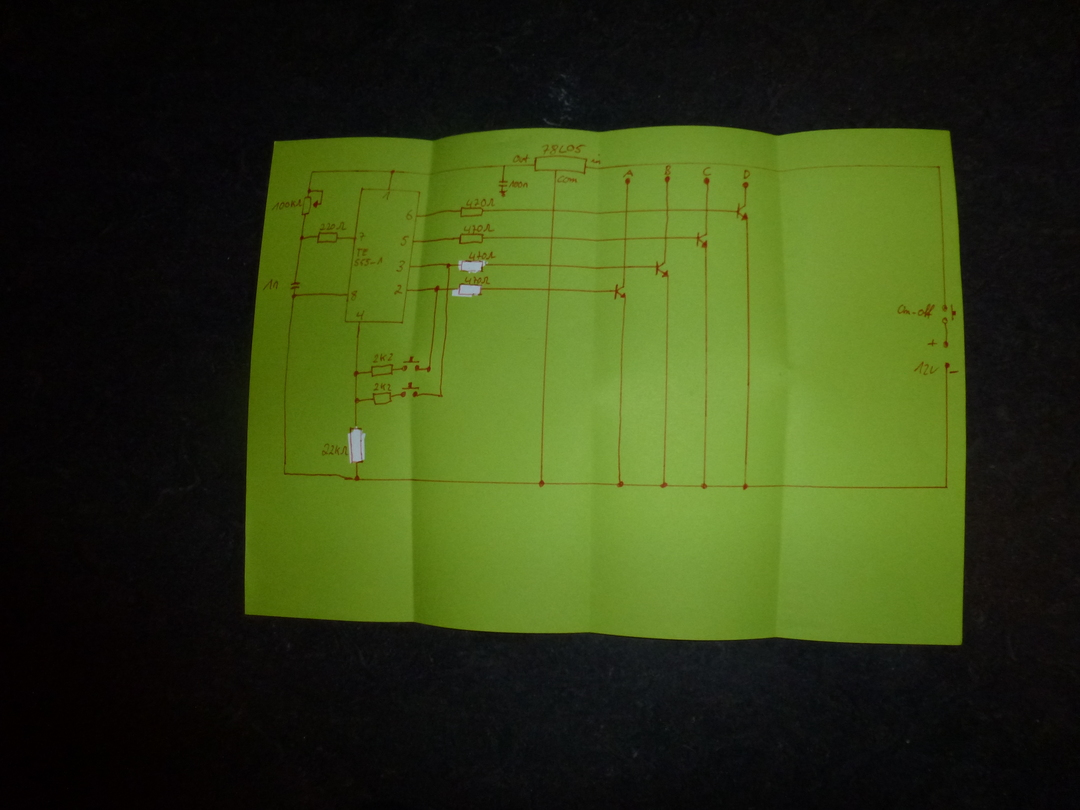capacitor.unpolarized: (289, 280, 301, 290), (497, 179, 509, 188)
crossover: (662, 233, 671, 245), (621, 234, 630, 245), (622, 207, 632, 216), (620, 262, 629, 272), (663, 205, 672, 215), (702, 207, 712, 216), (545, 285, 554, 294), (549, 206, 558, 215), (444, 285, 452, 295), (547, 261, 555, 270), (548, 233, 556, 242)
gnd: (497, 189, 509, 198)
integrated_cricuit.ne555: (343, 185, 422, 326)
junction: (536, 478, 549, 490), (352, 473, 363, 484), (934, 162, 944, 172), (352, 369, 361, 379), (659, 481, 669, 490), (615, 480, 625, 489), (700, 482, 709, 491), (388, 168, 398, 176), (433, 284, 441, 294), (281, 469, 289, 479), (304, 187, 313, 195), (741, 482, 749, 491), (290, 292, 298, 300), (445, 261, 453, 269), (942, 483, 950, 491), (298, 234, 306, 241), (319, 187, 326, 195), (309, 169, 317, 176), (353, 397, 360, 405), (425, 365, 432, 373), (437, 392, 444, 400), (501, 162, 508, 169)
resistor: (349, 425, 366, 465), (457, 282, 485, 297), (459, 259, 486, 274), (369, 363, 395, 377), (369, 391, 394, 405), (457, 233, 485, 245), (315, 231, 340, 244), (458, 206, 485, 218)
resistor.adjustable: (301, 195, 325, 217)
switch: (399, 381, 422, 399), (940, 302, 958, 325), (401, 355, 422, 373)
terminal: (741, 180, 751, 190), (702, 177, 712, 187), (663, 176, 672, 186), (624, 177, 632, 188), (940, 341, 951, 349), (943, 360, 952, 369)
text: (352, 246, 385, 269), (895, 302, 936, 320), (540, 142, 586, 154), (321, 443, 348, 458), (914, 361, 939, 376), (463, 222, 494, 234), (272, 199, 302, 211), (469, 250, 496, 261), (466, 198, 495, 207), (464, 275, 490, 285), (321, 221, 347, 231), (372, 352, 394, 363), (262, 278, 280, 291), (557, 174, 579, 184), (373, 381, 392, 392), (512, 153, 530, 163), (509, 180, 529, 189), (395, 259, 407, 273), (399, 233, 410, 247), (354, 309, 366, 321), (591, 153, 602, 165), (405, 208, 415, 221), (350, 289, 359, 303), (623, 168, 635, 178), (394, 284, 404, 296), (702, 166, 712, 177), (742, 168, 751, 180), (382, 191, 392, 201), (358, 231, 366, 243), (664, 165, 672, 175)
transistor: (654, 259, 671, 280), (735, 201, 751, 223), (612, 283, 628, 301), (695, 231, 710, 250)
voltage.dc_regulator: (533, 154, 589, 175)
